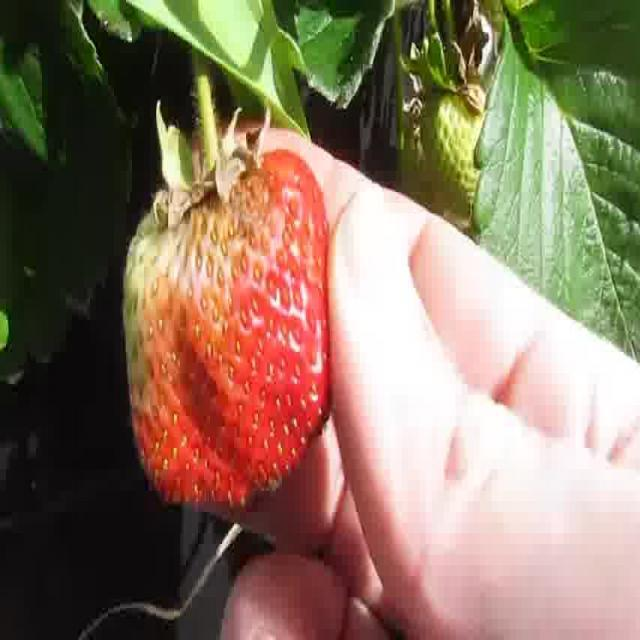Fruta sana: (122, 108, 338, 535), (422, 52, 504, 225), (395, 96, 450, 222), (476, 0, 514, 35)
